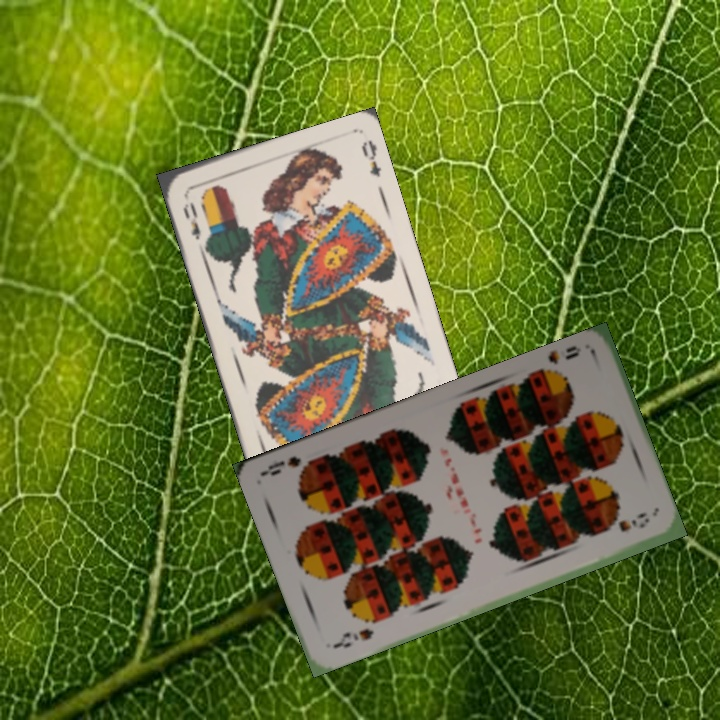EO: (178, 198, 203, 242)
S9: (533, 341, 583, 381), (328, 624, 377, 651)
